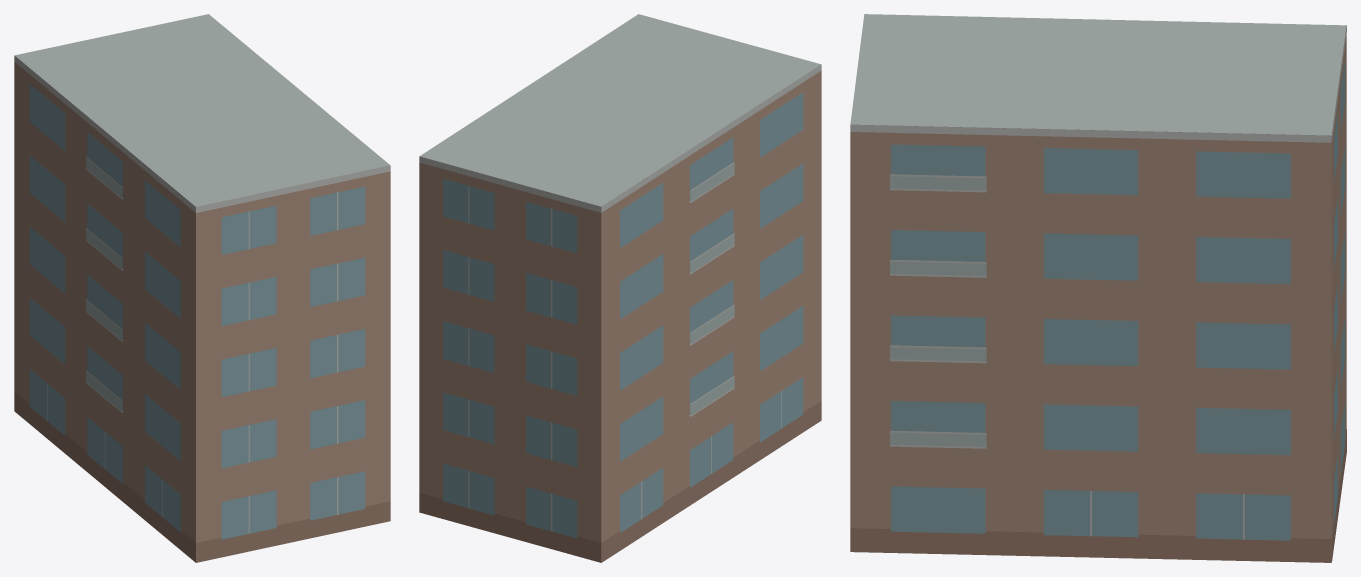
The model's file is survey-upis-32885321.glb.
The picture shows the model from 3 angles, left to right: view 1: azimuth 30°, elevation 25°; view 2: azimuth 150°, elevation 25°; view 3: azimuth 270°, elevation 25°; orthographic projection. The views are drawn at different scales.
Visible parts, largest first — view 1: survey-upis-32885321.tmp; view 2: survey-upis-32885321.tmp; view 3: survey-upis-32885321.tmp.
Boxes of the visible parts, x1,y1,x2,y2 form: survey-upis-32885321.tmp: [14, 14, 390, 562]; survey-upis-32885321.tmp: [419, 14, 821, 562]; survey-upis-32885321.tmp: [850, 14, 1346, 562].
Size of the model in its own units: 8.67 by 14.2 by 14.96.
